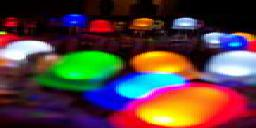LED: (128, 81, 236, 128), (39, 47, 116, 87), (172, 14, 203, 34), (81, 18, 118, 34), (131, 14, 156, 31)
